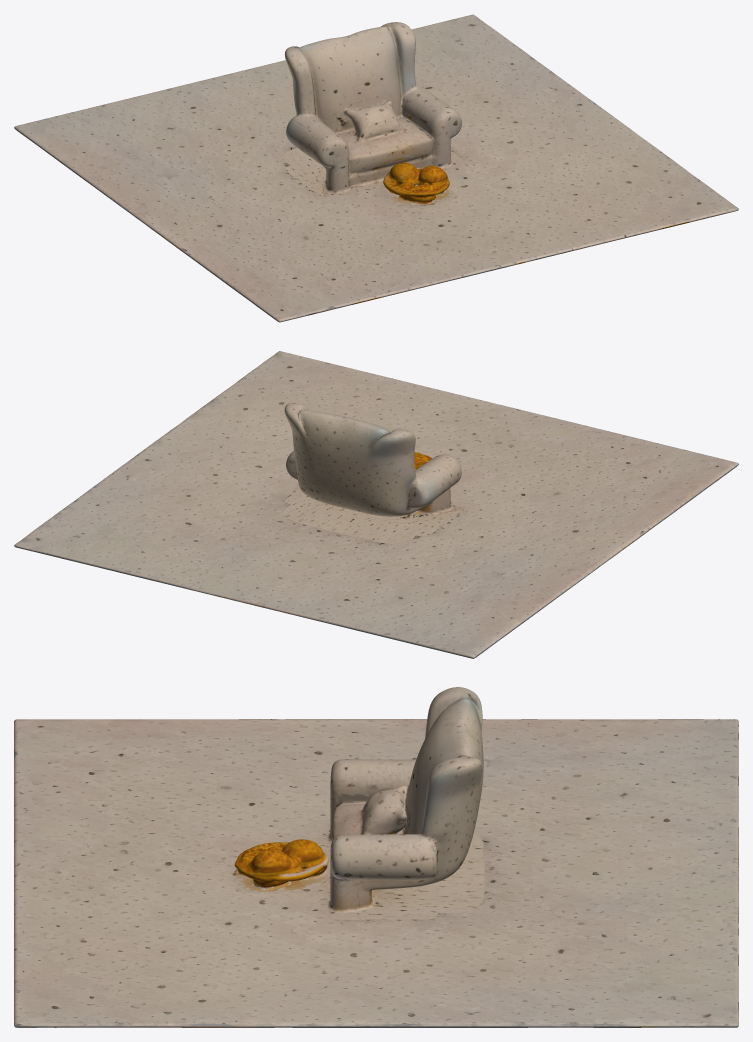
The model's file is sofa-failed.glb.
The picture shows the model from 3 angles, top to bottom: view 1: azimuth 30°, elevation 25°; view 2: azimuth 150°, elevation 25°; view 3: azimuth 270°, elevation 25°; orthographic projection. The views are drawn at different scales.
Parts seen in each view (by area): view 1: textured; view 2: textured; view 3: textured.
Boxes of the visible parts, x1=… form: textured: x1=14, y1=14, x2=738, y2=322; textured: x1=14, y1=351, x2=738, y2=658; textured: x1=14, y1=687, x2=738, y2=1027.
Size of the model in its own units: 2 by 0.4596 by 1.99.
1 material, 1 textured.
